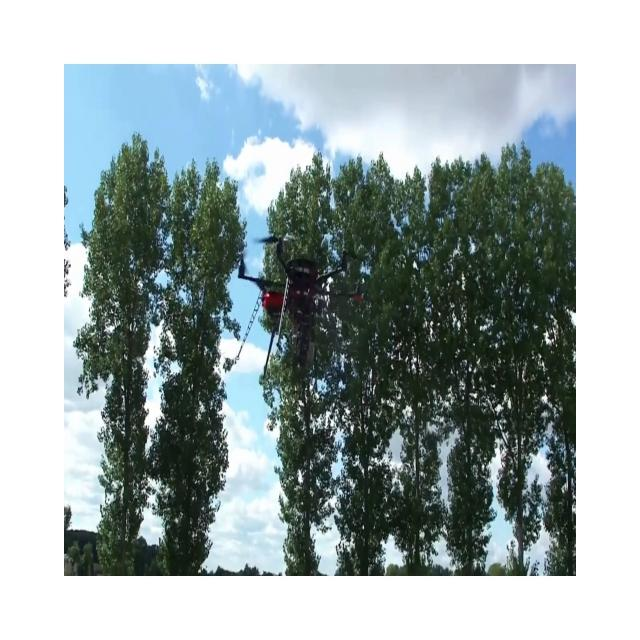drone: (224, 230, 365, 380)
